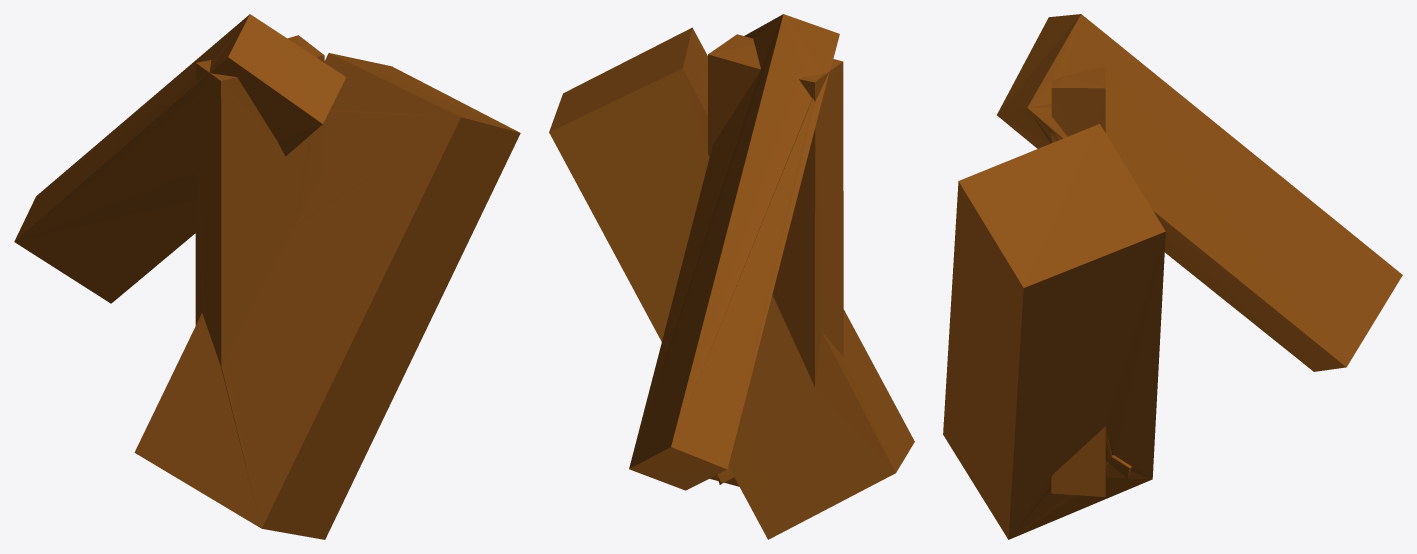
The picture shows the model from 3 angles, left to right: view 1: azimuth 30°, elevation 25°; view 2: azimuth 150°, elevation 25°; view 3: azimuth 270°, elevation 25°; orthographic projection. The views are drawn at different scales.
Parts seen in each view (by area): view 1: 688_Cube.2763; view 2: 688_Cube.2763; view 3: 688_Cube.2763.
Boxes of the visible parts, x1,y1,x2,y2 form: 688_Cube.2763: (14, 14, 520, 539); 688_Cube.2763: (549, 14, 914, 539); 688_Cube.2763: (943, 14, 1402, 539).
Size of the model in its own units: 10.82 by 14.86 by 12.21.
